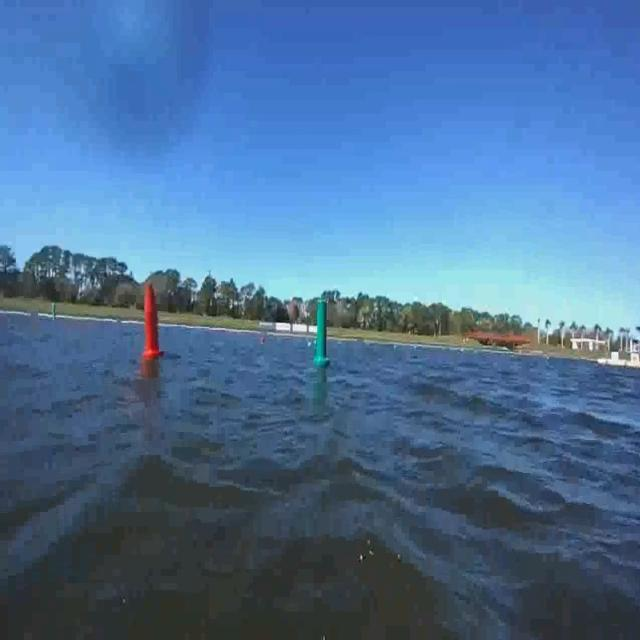green-column-buoy: (313, 300, 332, 368)
red-column-buoy: (141, 283, 163, 358)
